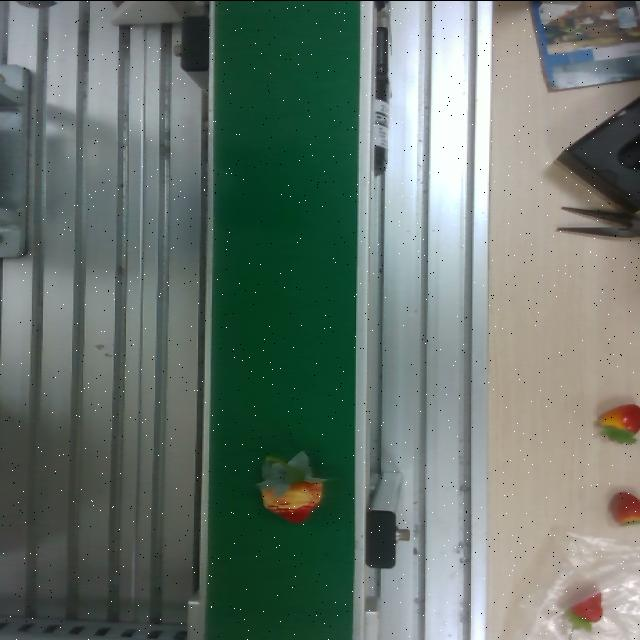Moldy Strawberry: (246, 448, 338, 530)
conveyor: (200, 0, 374, 640)
